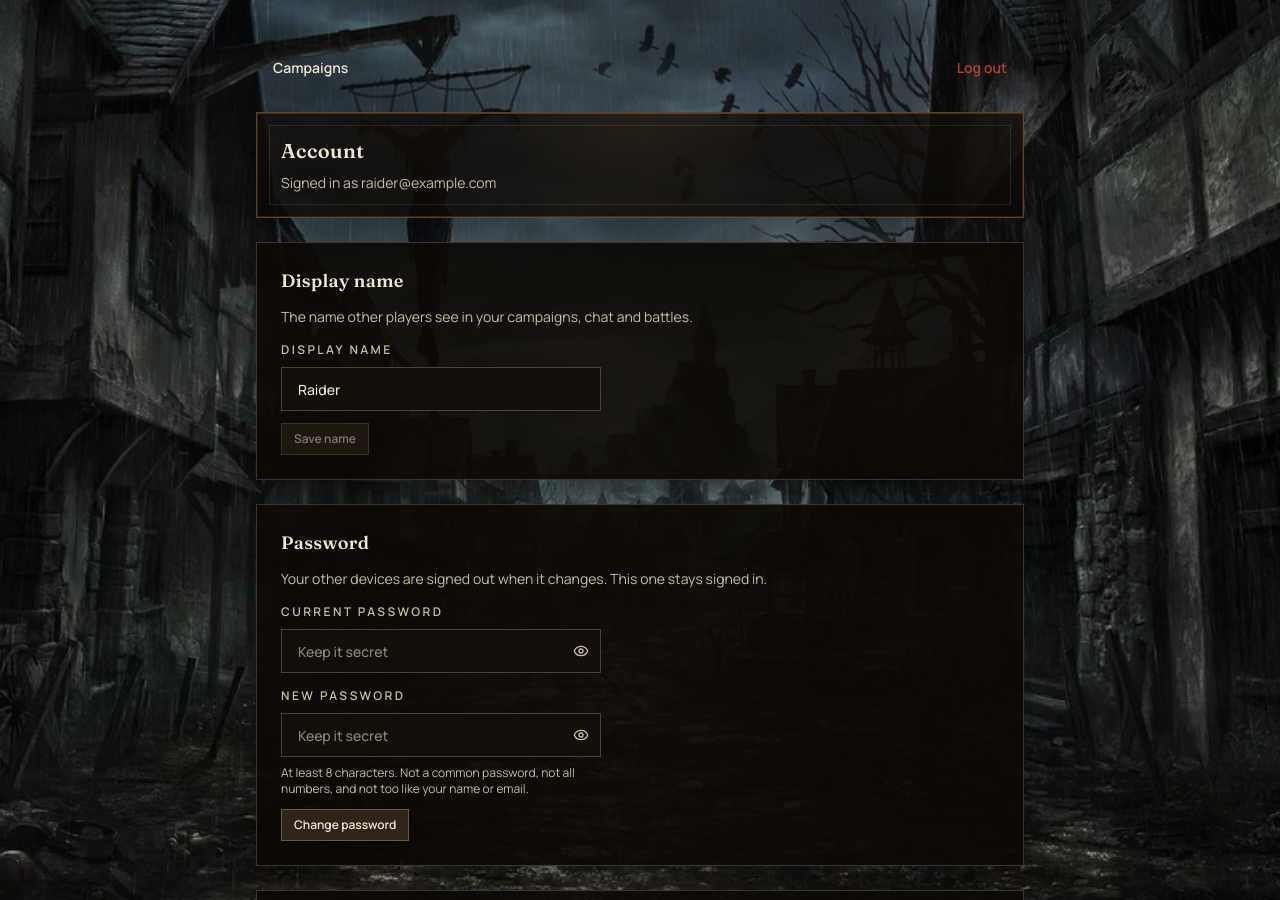
Test: the display name (AUTH-NEW-02) › saves a new name, which the session keeps
The image size is (1280, 900).
Check: the button "Save name" is disabled, box [281,423,369,455]
Replace the text in the field labelled "Display name" with "Raider Prime": (441, 389) [281,367,601,411]
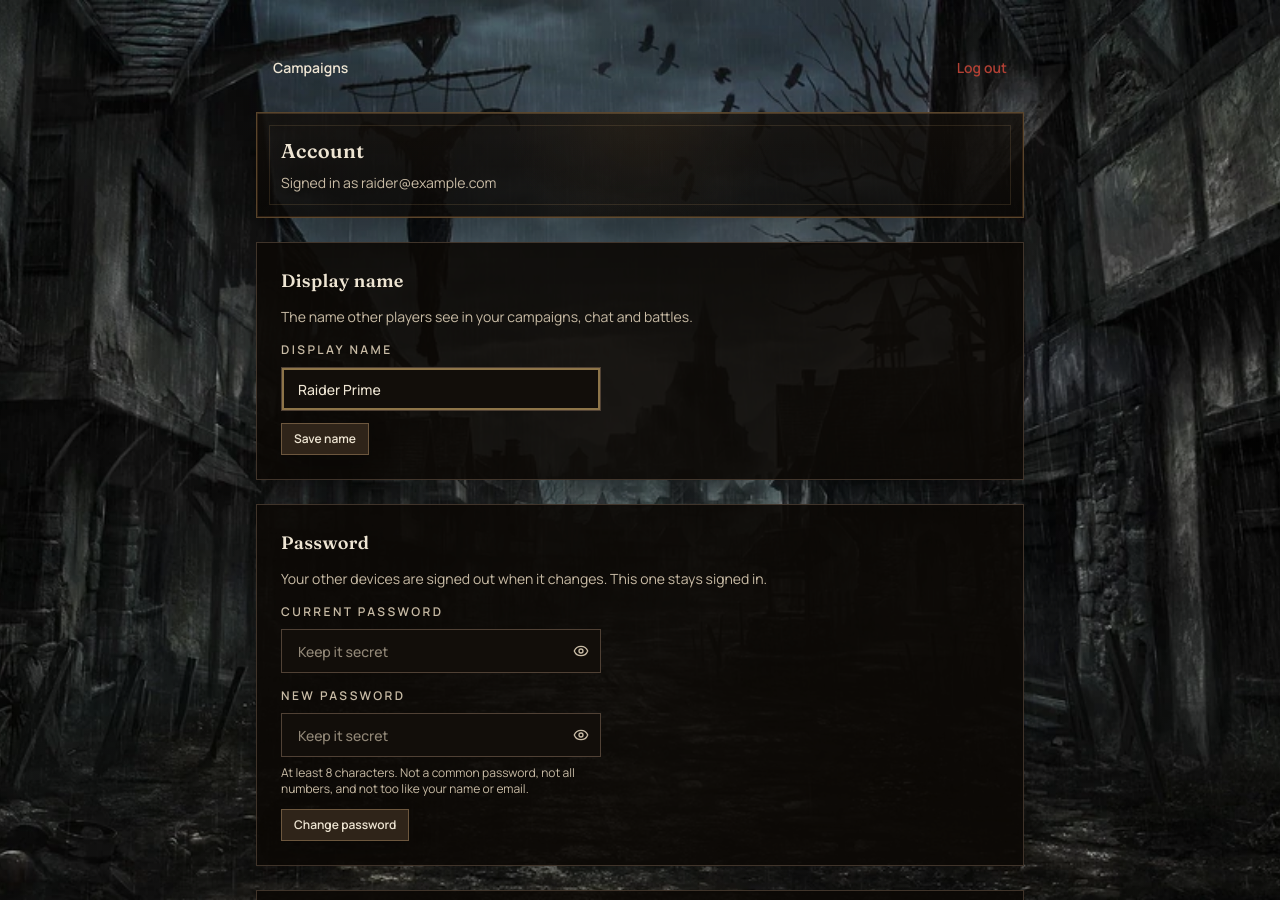
Click the button "Save name": (325, 439) [281,423,369,455]
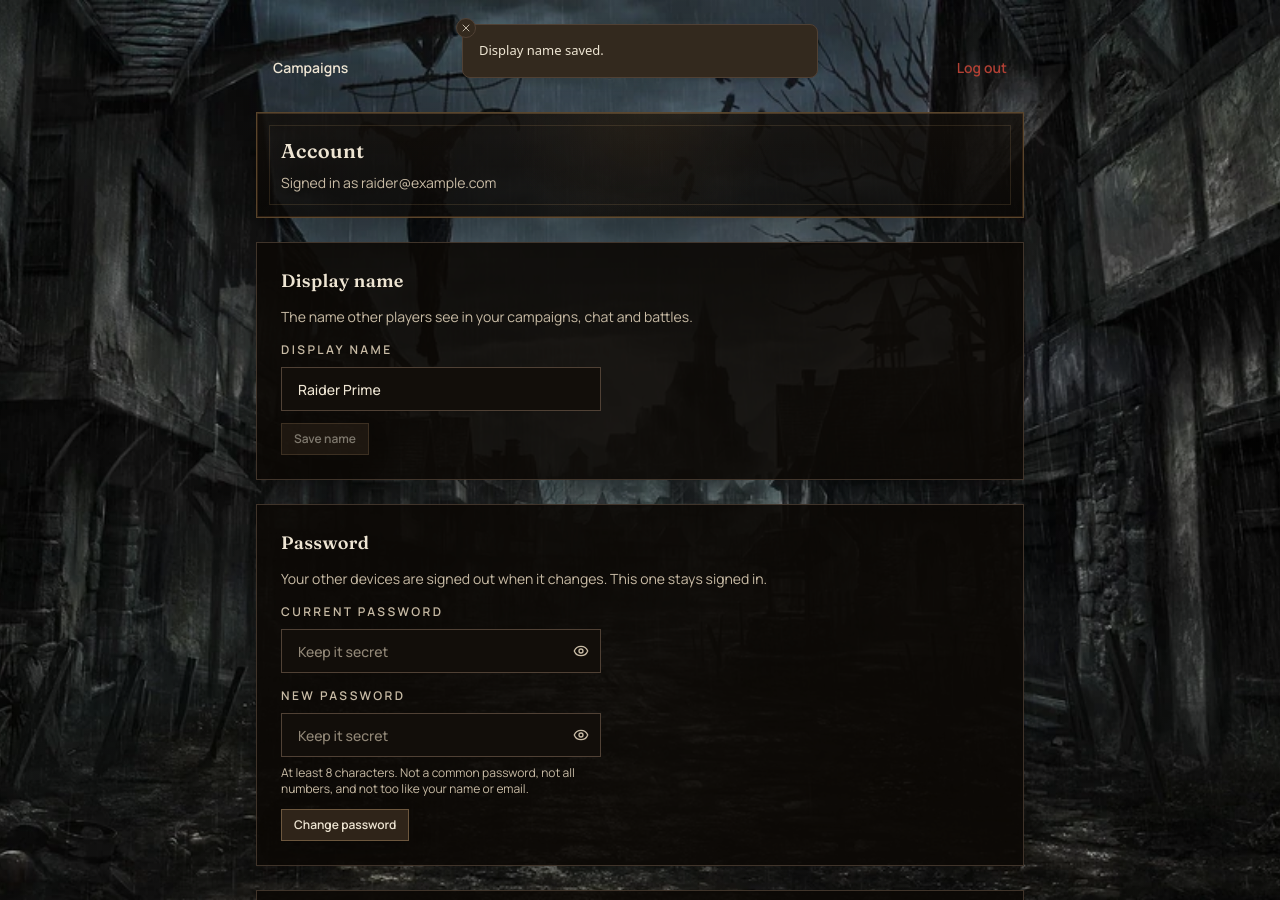
Check: the text "Display name saved." is shown, box [479,41,604,60]
